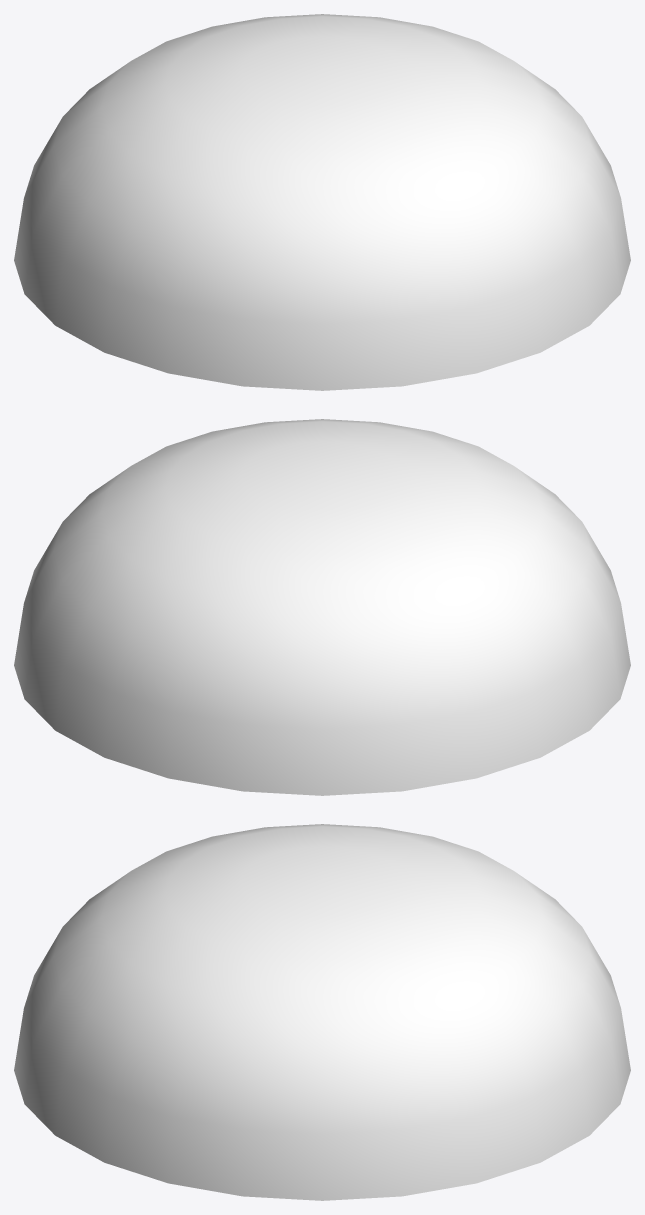
The model's file is Cupcake_top_01.001.fbx.
3 views of the same model, one above another, from view 1: azimuth 30°, elevation 25°; view 2: azimuth 150°, elevation 25°; view 3: azimuth 270°, elevation 25° (orthographic).
Parts seen in each view (by area): view 1: Cupcake_top_01.001; view 2: Cupcake_top_01.001; view 3: Cupcake_top_01.001.
Part boxes in pixels (bbox=[...]): Cupcake_top_01.001: bbox=[14, 14, 630, 390]; Cupcake_top_01.001: bbox=[14, 419, 630, 795]; Cupcake_top_01.001: bbox=[14, 824, 630, 1200].
Bounding box in the file's own units: 75.33 × 75.33 × 25.97.
